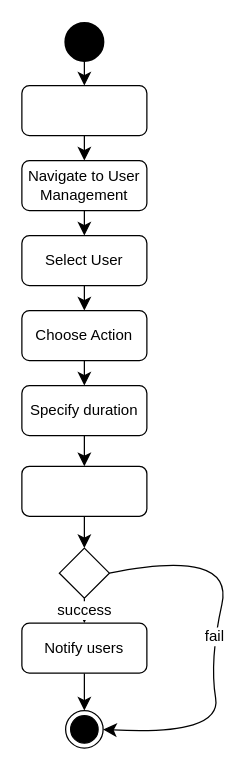
Image size: 246x770. Some labels were removed from this diagram. Here are the shapes that lost their labels. From the top down, the centre of each, then its label:
point (84, 110): Login to system
point (84, 490): Save changes
